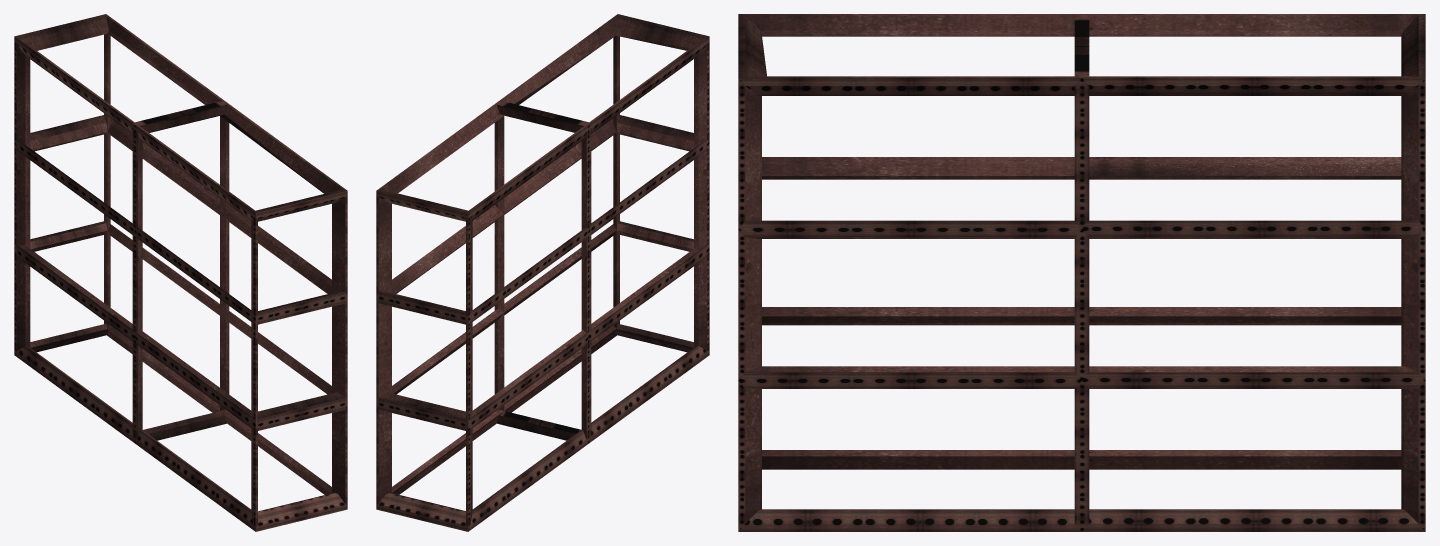
File: MetalShelf.fbx
3 views of the same model, side by side, from view 1: azimuth 30°, elevation 25°; view 2: azimuth 150°, elevation 25°; view 3: azimuth 270°, elevation 25° (orthographic). The views are drawn at different scales.
Visible parts, largest first — view 1: Cube; view 2: Cube; view 3: Cube.
Part boxes in pixels (left/top/right/bottom): Cube: left=14, top=14, right=347, bottom=531; Cube: left=376, top=14, right=709, bottom=531; Cube: left=738, top=14, right=1425, bottom=531.
Size of the model in its own units: 146 by 486 by 667.
1 material, 1 textured.
